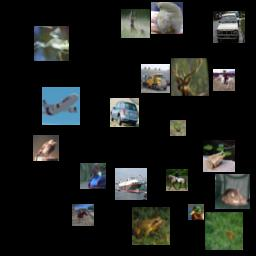airplane: (42, 87, 80, 125)
automobile: (213, 11, 245, 43), (110, 98, 139, 127)
bird: (151, 2, 183, 34), (33, 135, 59, 161), (80, 163, 106, 189), (188, 204, 204, 220)
cat: (215, 174, 250, 209)
deer: (171, 58, 209, 96), (205, 212, 243, 250), (121, 9, 150, 38)
frog: (132, 207, 170, 245), (34, 26, 69, 61), (203, 140, 235, 172), (170, 120, 186, 136)
ship: (115, 168, 147, 200)
truck: (141, 64, 170, 93)
